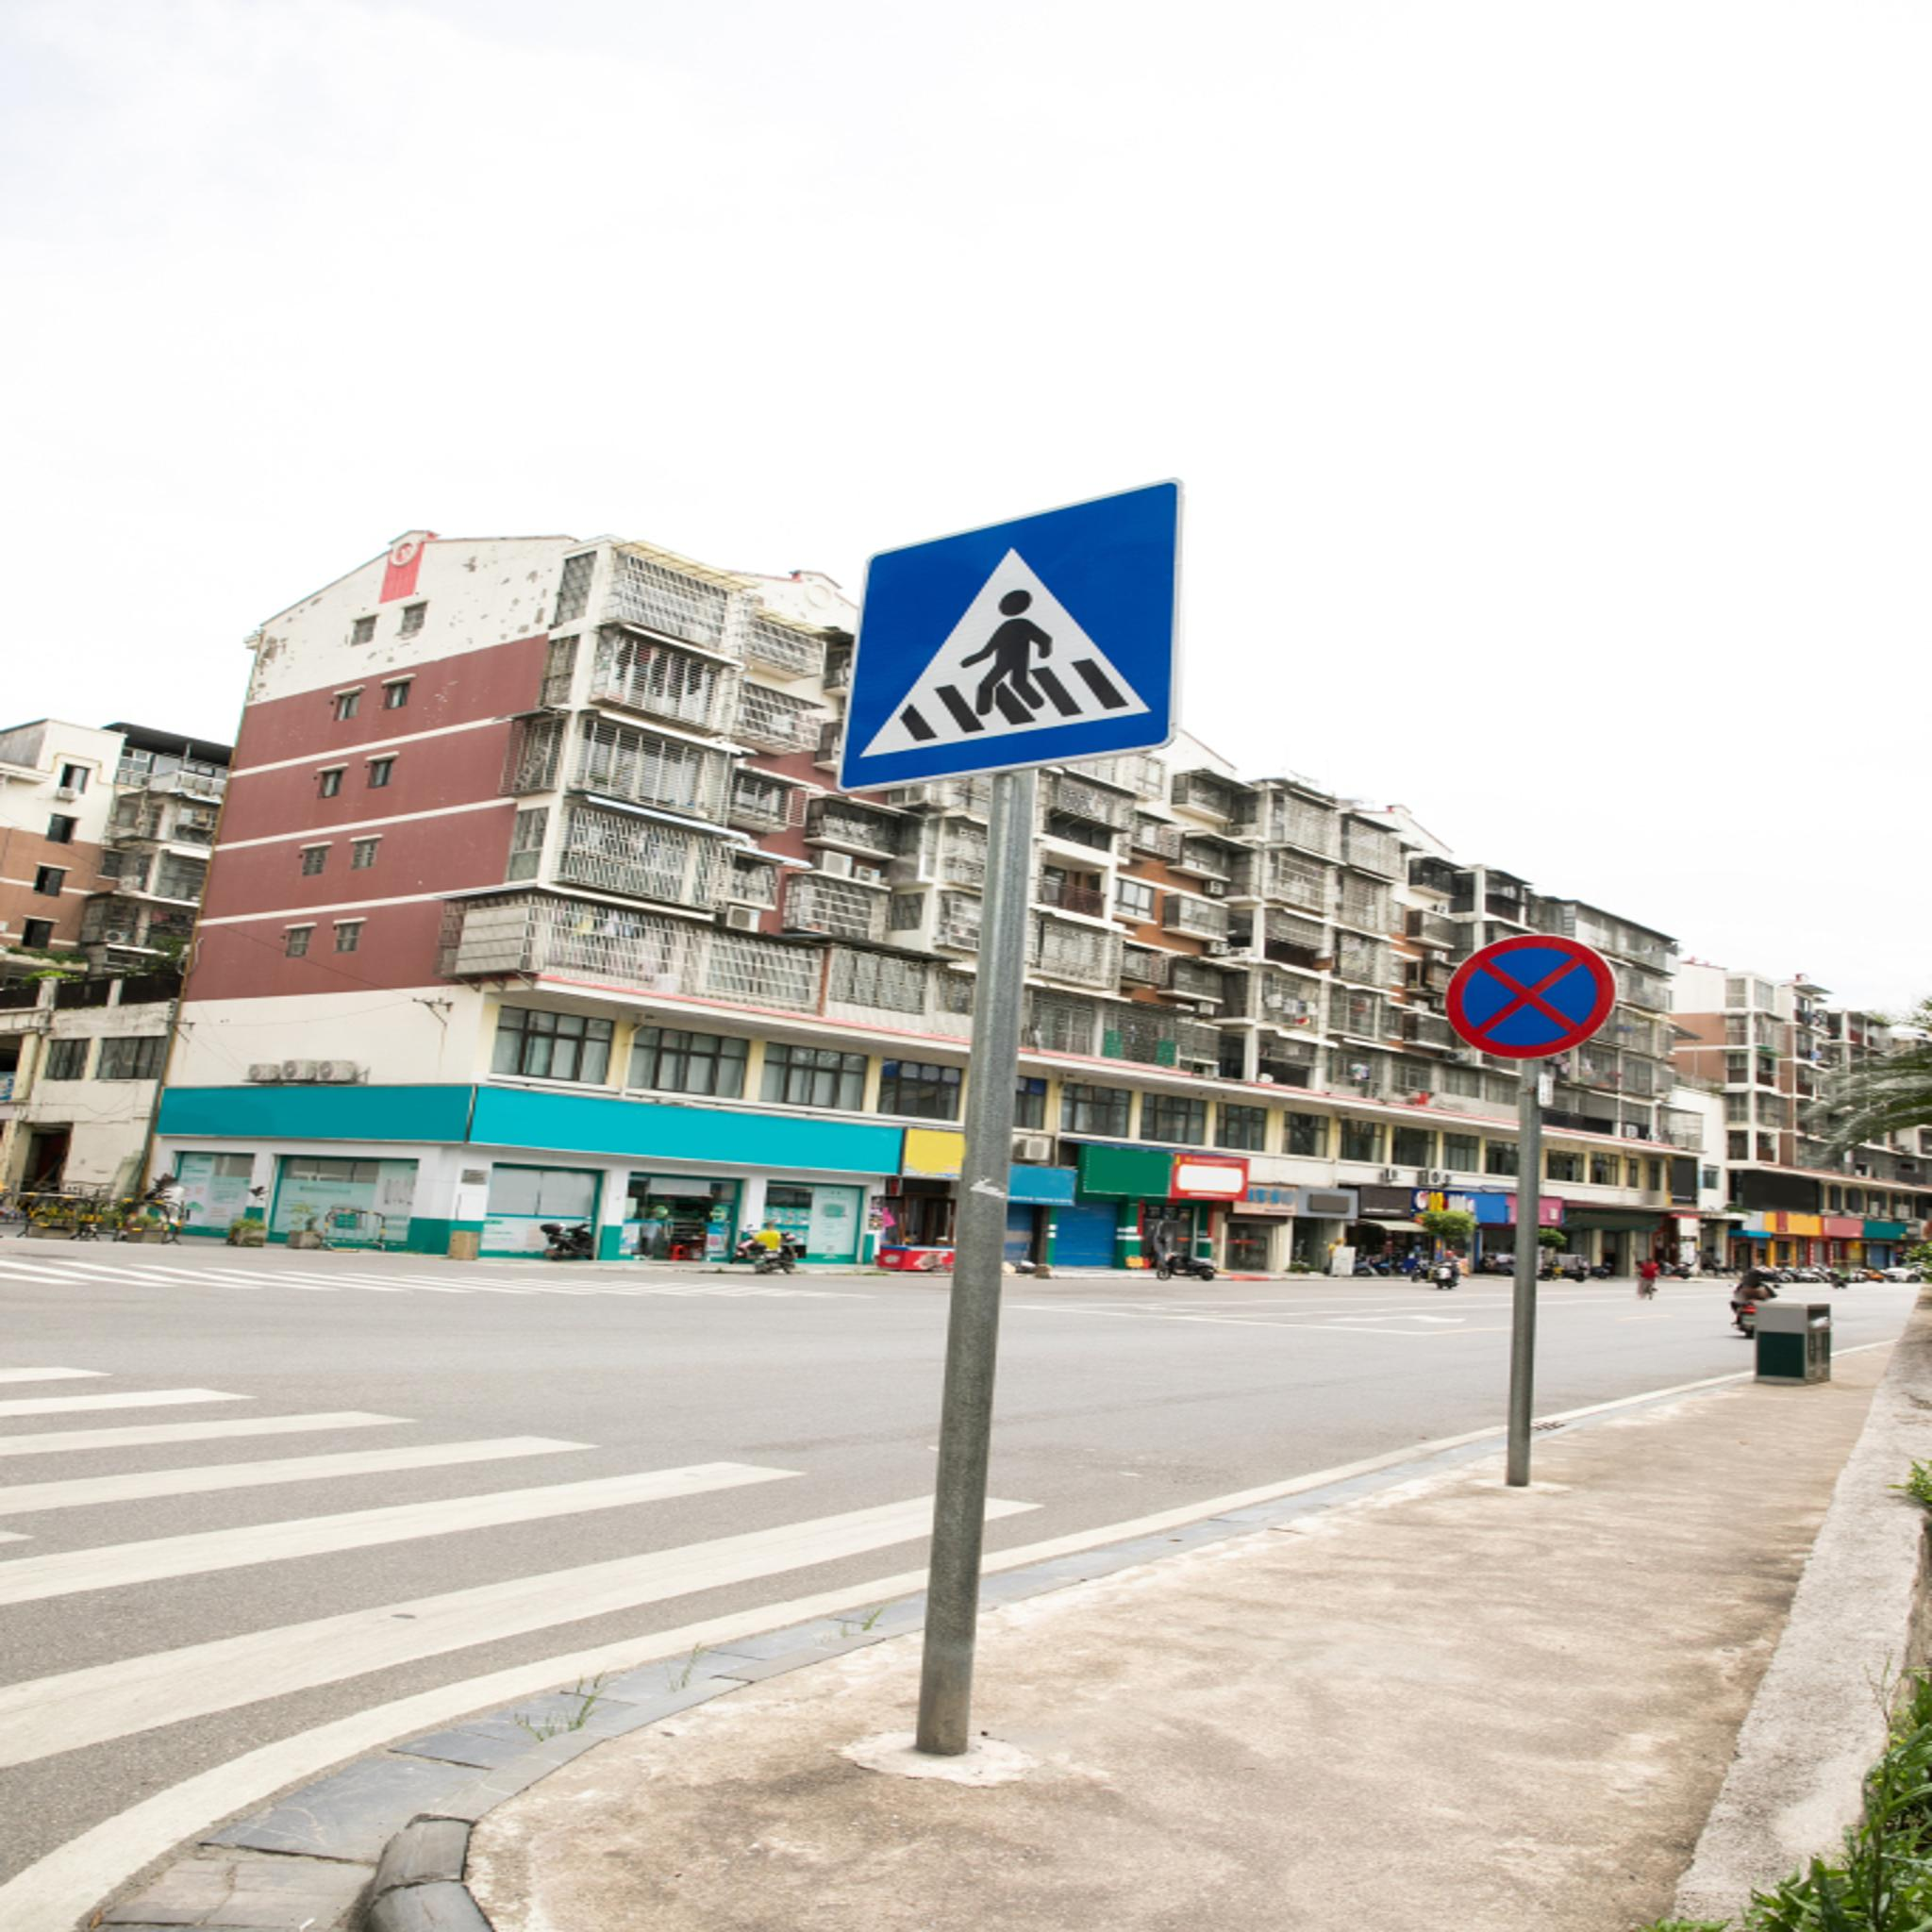ip: (835, 481, 1175, 793)
pn: (1442, 932, 1615, 1065)
